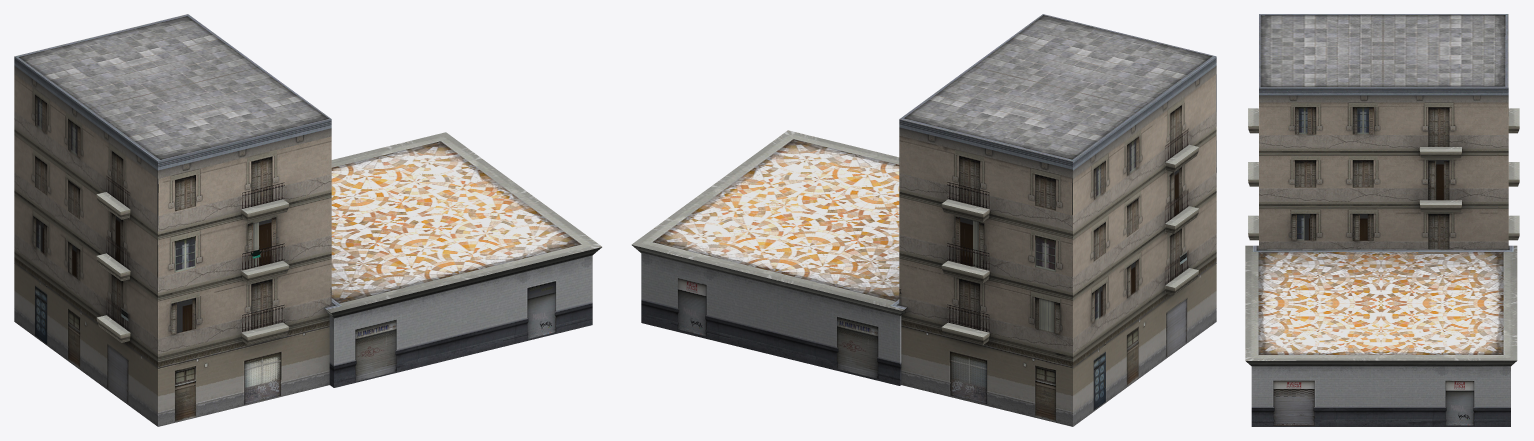
Rendered from building3_lod2.FBX.
The picture shows the model from 3 angles, left to right: view 1: azimuth 30°, elevation 25°; view 2: azimuth 150°, elevation 25°; view 3: azimuth 270°, elevation 25°; orthographic projection. The views are drawn at different scales.
Parts seen in each view (by area): view 1: building_3_lod2; view 2: building_3_lod2; view 3: building_3_lod2.
Boxes of the visible parts, x1,y1,x2,y2 form: building_3_lod2: [14, 14, 601, 426]; building_3_lod2: [631, 14, 1216, 426]; building_3_lod2: [1245, 14, 1519, 426].
Size of the model in its own units: 2600 by 1476 by 1593.
